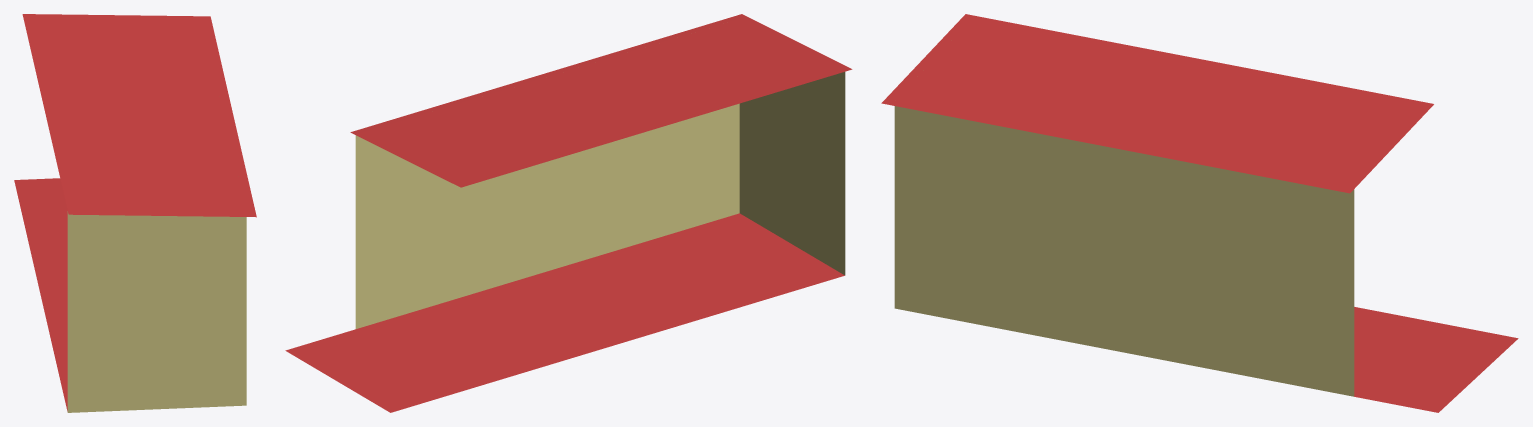
The picture shows the model from 3 angles, left to right: view 1: azimuth 30°, elevation 25°; view 2: azimuth 150°, elevation 25°; view 3: azimuth 270°, elevation 25°; orthographic projection. The views are drawn at different scales.
Bounding box in the file's own units: 10.6 × 15.8 × 5.96.
